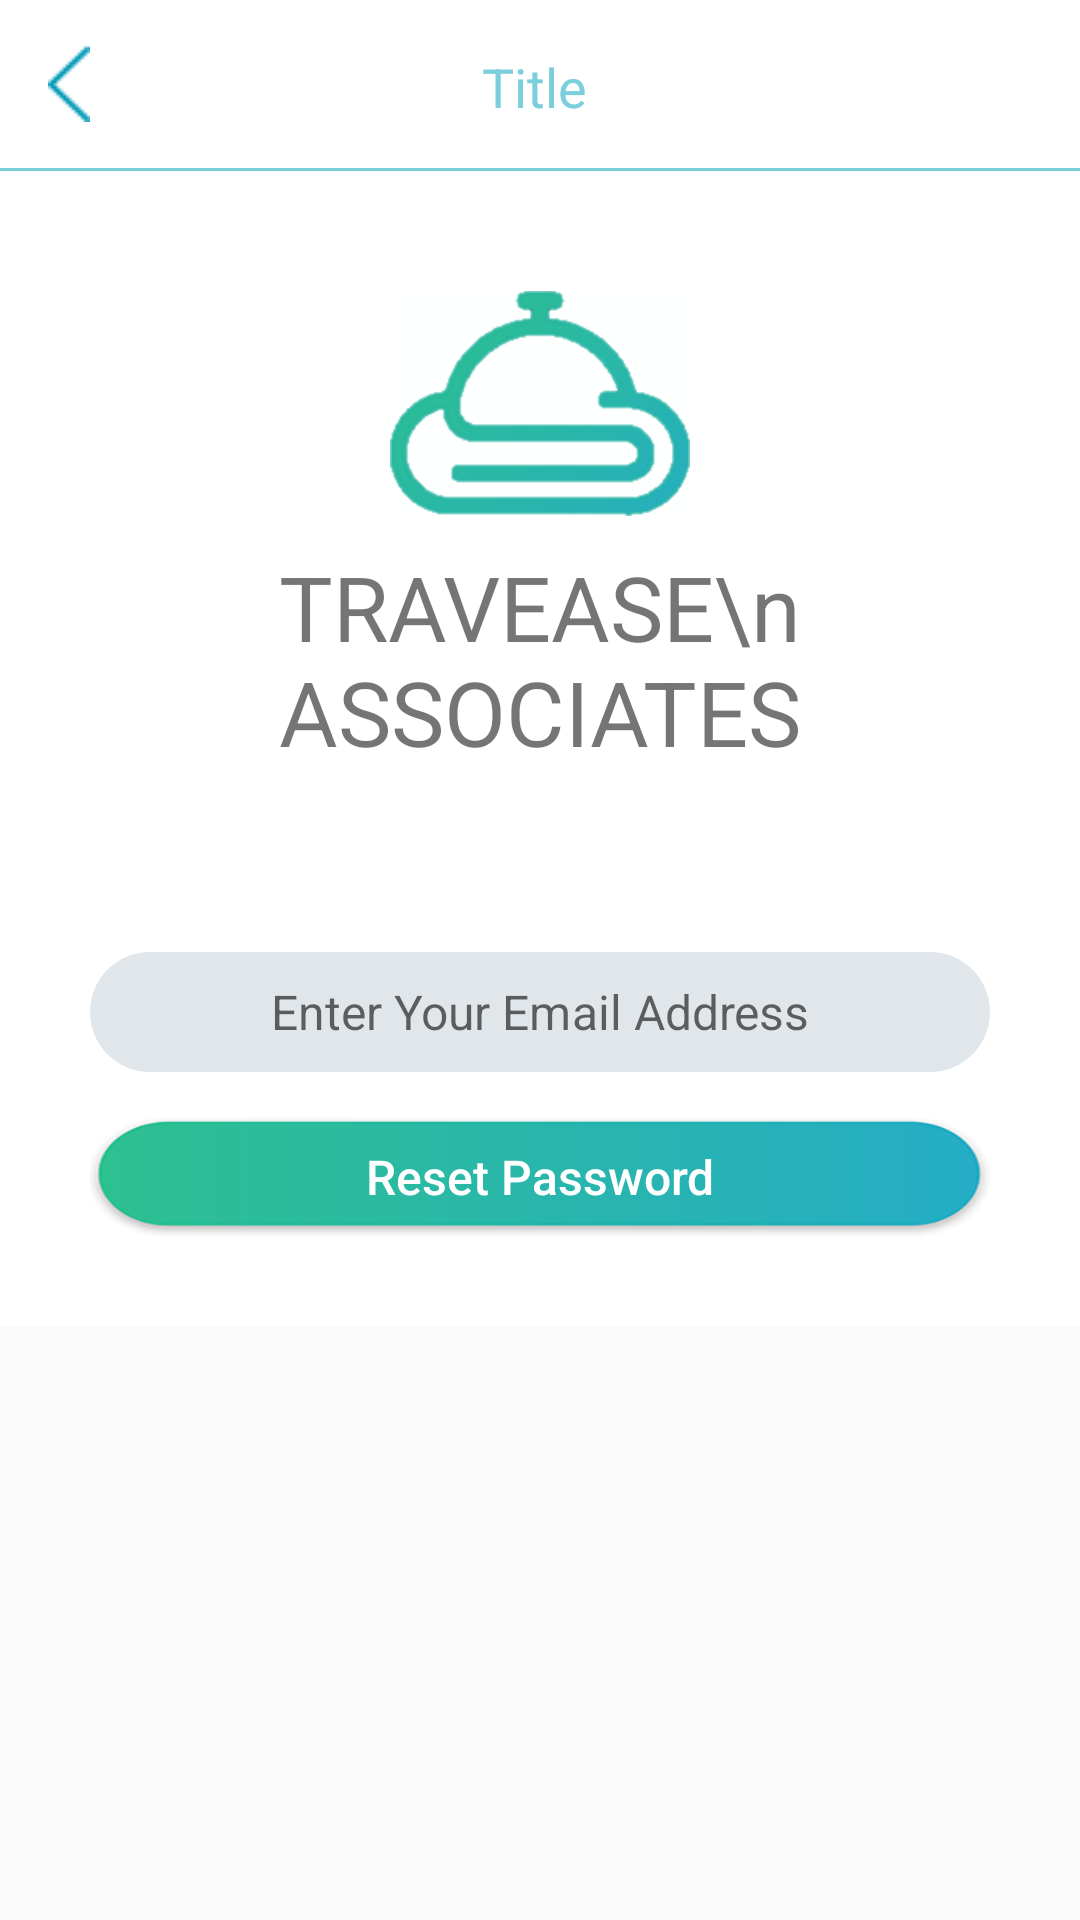

Screen size 1080x1920. Icon name, then its center in pixels as [x,y]:
left arrow: [69,84]
